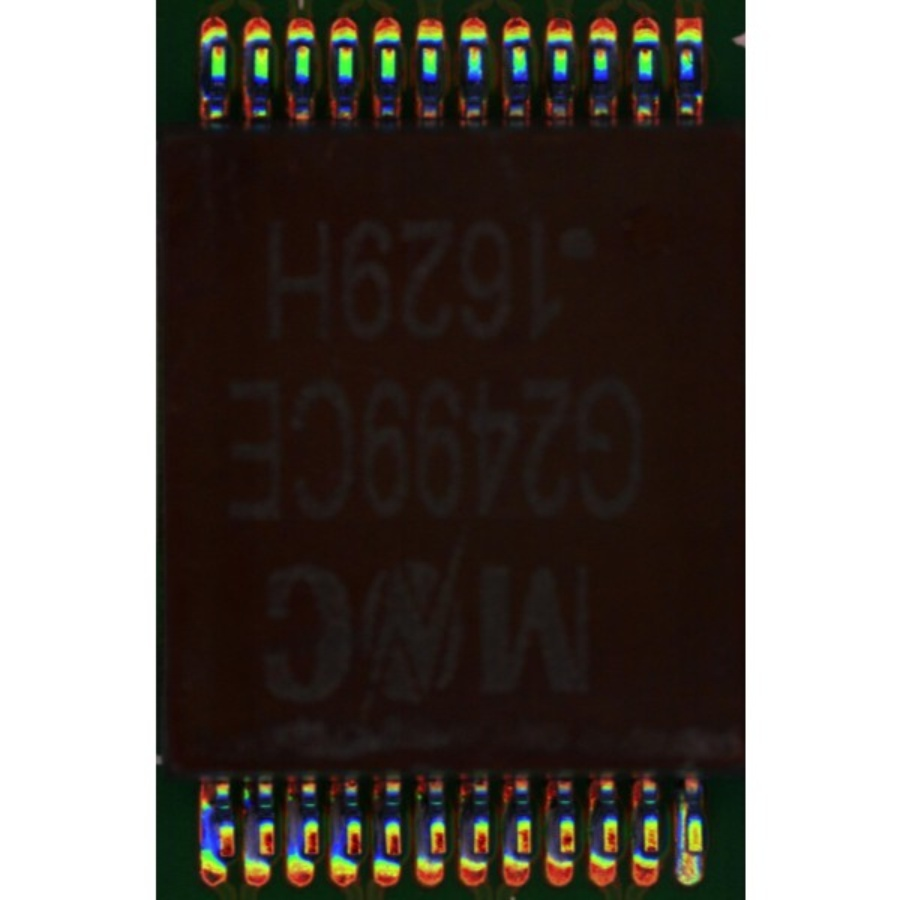Bad_podu: (686, 846, 699, 866)
Bad_qiaojiao: (676, 795, 687, 849)
